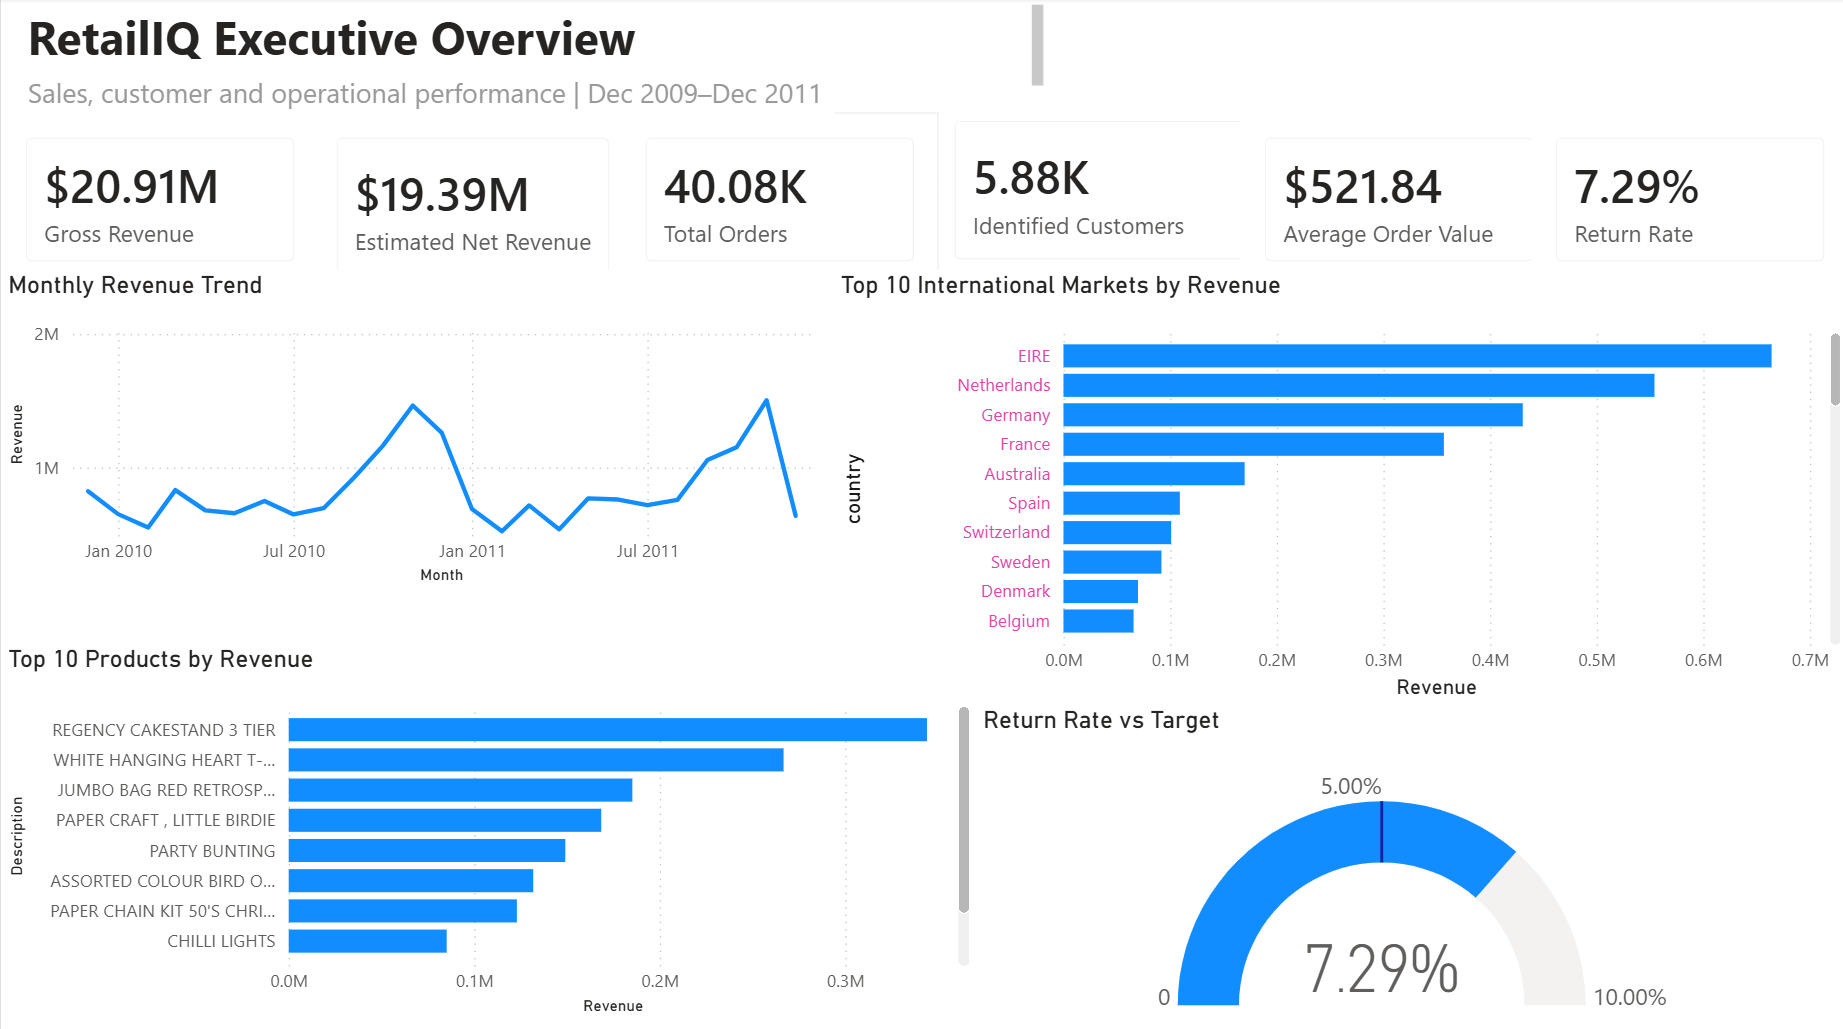

The dashboard page shown, as its layout file describes it:
{"tool":"powerbi","page":{"name":"Executive Overview","canvas":[1280,720],"ordinal":0},"visuals":[{"type":"cardVisual","fields":{"Data":["Executive_KPIs.Gross Revenue"]},"box":[0.2,80,220,120],"z":0},{"type":"cardVisual","fields":{"Data":["Executive_KPIs.Identified Customers Card"]},"box":[643.8,68.9,242.3,130.7],"z":1000},{"type":"cardVisual","fields":{"Data":["Executive_KPIs.Total Orders"]},"box":[429.2,80,220,120],"z":2000},{"type":"cardVisual","fields":{"Data":["Executive_KPIs.Estimated Net Revenue"]},"box":[215,79.6,223.3,131.8],"z":3000},{"type":"cardVisual","fields":{"Data":["Executive_KPIs.Average Order Value"]},"box":[858.2,80,220,120],"z":4000},{"type":"cardVisual","fields":{"Data":["Executive_KPIs.Return Rate"]},"box":[1060.2,80,220,120],"z":5000},{"type":"textbox","box":[13.5,0,714,68.6],"z":6000},{"type":"textbox","box":[13.1,47.5,564.2,41.6],"z":7000},{"type":"lineChart","title":"Monthly Revenue Trend","fields":{"Y":["Sum(Monthly_Sales.revenue)"],"Category":["Monthly_Sales.year_month"]},"box":[0,188.9,577.3,222.1],"z":8000},{"type":"clusteredBarChart","title":"Top 10 International Markets by Revenue","fields":{"Category":["Country_Performance.country"],"Y":["Sum(Country_Performance.revenue)"]},"box":[577.3,188.9,703.2,301.7],"z":9000},{"type":"clusteredBarChart","title":"Top 10 Products by Revenue","fields":{"Category":["Product_Performance.description"],"Y":["Sum(Product_Performance.revenue)"]},"box":[0,447.8,675.8,261.3],"z":10000},{"type":"gauge","title":"Return Rate vs Target","fields":{"Y":["Executive_KPIs.Return Rate"],"MinValue":["Executive_KPIs.Return Rate Minimum"],"MaxValue":["Executive_KPIs.Return Rate Maximum"],"TargetValue":["Executive_KPIs.Return Rate Target"]},"box":[676,491,604,218],"z":11000}]}

Visuals, with their boxes in screenshot pixels (x1, y1, x2, y2), scaled from the page's 1280x720 canvas onto the 1843x1029 screenshot:
cardVisual - Executive_KPIs.Gross Revenue: [0, 114, 317, 286]
cardVisual - Executive_KPIs.Identified Customers Card: [927, 98, 1276, 285]
cardVisual - Executive_KPIs.Total Orders: [618, 114, 935, 286]
cardVisual - Executive_KPIs.Estimated Net Revenue: [310, 114, 631, 302]
cardVisual - Executive_KPIs.Average Order Value: [1236, 114, 1552, 286]
cardVisual - Executive_KPIs.Return Rate: [1527, 114, 1842, 286]
textbox: [19, 0, 1047, 98]
textbox: [19, 68, 831, 127]
"Monthly Revenue Trend" lineChart: [0, 270, 831, 587]
"Top 10 International Markets by Revenue" clusteredBarChart: [831, 270, 1842, 701]
"Top 10 Products by Revenue" clusteredBarChart: [0, 640, 973, 1013]
"Return Rate vs Target" gauge: [973, 702, 1842, 1013]
